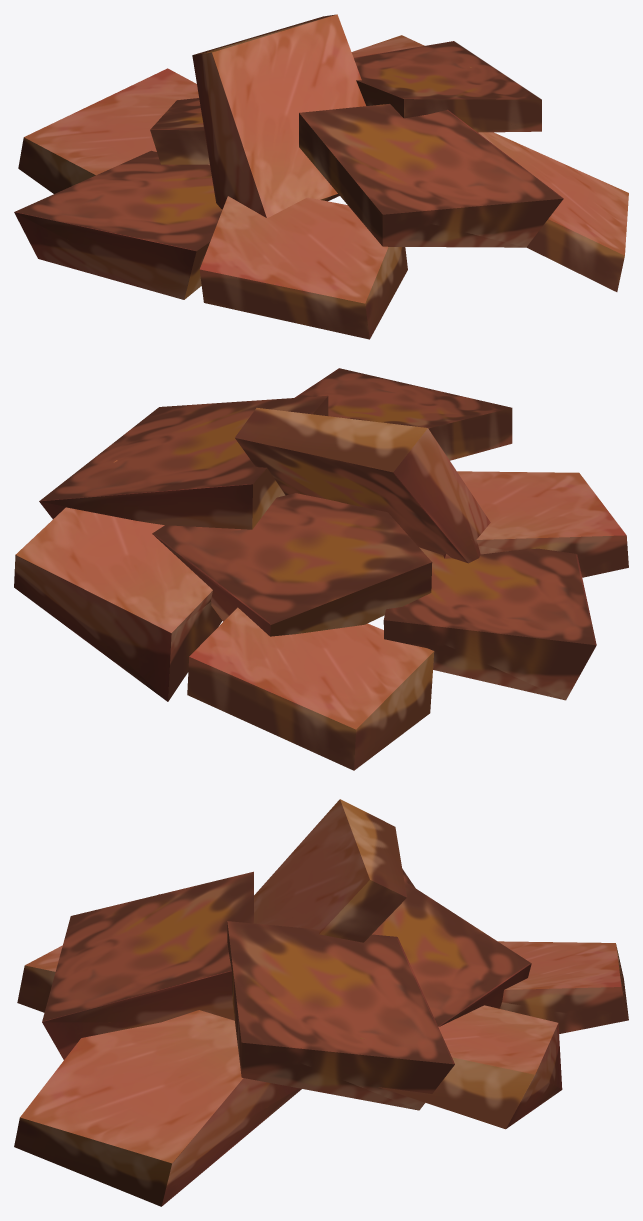
The model's file is Meat.obj.
The picture shows the model from 3 angles, top to bottom: view 1: azimuth 30°, elevation 25°; view 2: azimuth 150°, elevation 25°; view 3: azimuth 270°, elevation 25°; orthographic projection. The views are drawn at different scales.
Visible parts, largest first — view 1: Cube, Cube.003, Cube.004, Cube.007, Cube.001, Cube.008, Cube.006, Cube.005, Cube.002; view 2: Cube.005, Cube.008, Cube.002, Cube.007, Cube.001, Cube.003, Cube.004, Cube; view 3: Cube.006, Cube.001, Cube, Cube.003, Cube.002, Cube.005, Cube.008, Cube.004.
Part boxes in pixels (x1=…): Cube: x1=299, y1=104, x2=563, y2=247; Cube.003: x1=192, y1=14, x2=365, y2=217; Cube.004: x1=199, y1=196, x2=407, y2=339; Cube.007: x1=14, y1=150, x2=222, y2=299; Cube.001: x1=354, y1=41, x2=541, y2=132; Cube.008: x1=18, y1=68, x2=209, y2=193; Cube.006: x1=478, y1=132, x2=628, y2=291; Cube.005: x1=150, y1=98, x2=209, y2=164; Cube.002: x1=351, y1=35, x2=471, y2=67; Cube.005: x1=152, y1=493, x2=432, y2=636; Cube.008: x1=187, y1=607, x2=434, y2=770; Cube.002: x1=14, y1=460, x2=222, y2=701; Cube.007: x1=383, y1=547, x2=596, y2=700; Cube.001: x1=39, y1=395, x2=328, y2=529; Cube.003: x1=235, y1=408, x2=490, y2=563; Cube.004: x1=443, y1=471, x2=628, y2=577; Cube: x1=294, y1=368, x2=512, y2=460; Cube.006: x1=14, y1=1010, x2=301, y2=1206; Cube.001: x1=227, y1=921, x2=454, y2=1110; Cube: x1=42, y1=871, x2=253, y2=1059; Cube.003: x1=254, y1=799, x2=406, y2=942; Cube.002: x1=360, y1=1005, x2=562, y2=1129; Cube.005: x1=372, y1=881, x2=531, y2=1026; Cube.008: x1=498, y1=941, x2=628, y2=1033; Cube.004: x1=17, y1=894, x2=159, y2=1012.
Size of the model in its own units: 1.72 by 0.6869 by 1.63.
